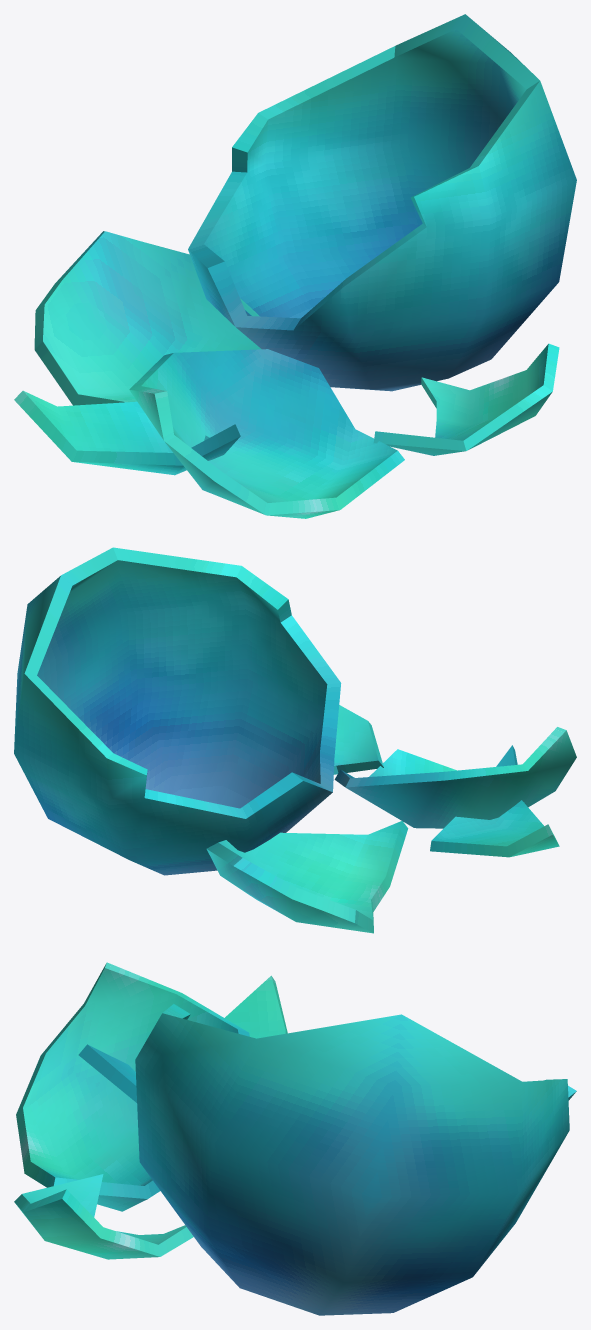
The model's file is danke_suipian.fbx.
3 renders of one model, top to bottom at view 1: azimuth 30°, elevation 25°; view 2: azimuth 150°, elevation 25°; view 3: azimuth 270°, elevation 25°, orthographic. The views are drawn at different scales.
Visible parts, largest first — view 1: danke_suipian; view 2: danke_suipian; view 3: danke_suipian.
Part boxes in pixels (<box>): danke_suipian: <box>14,14,576,518</box>; danke_suipian: <box>14,547,576,933</box>; danke_suipian: <box>14,962,576,1315</box>.
Size of the model in its own units: 31.9 by 16.99 by 25.17.
